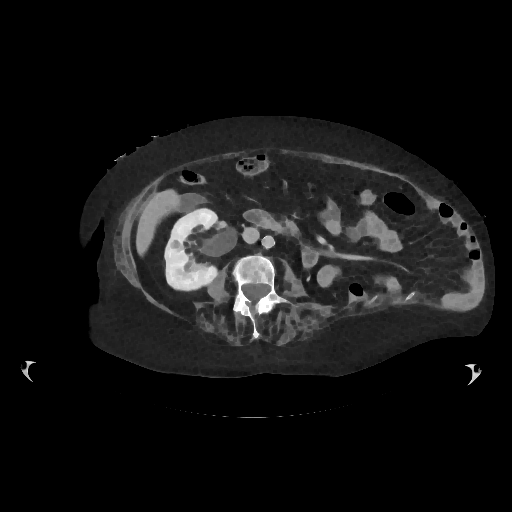Lesion: (167, 236, 182, 252)
